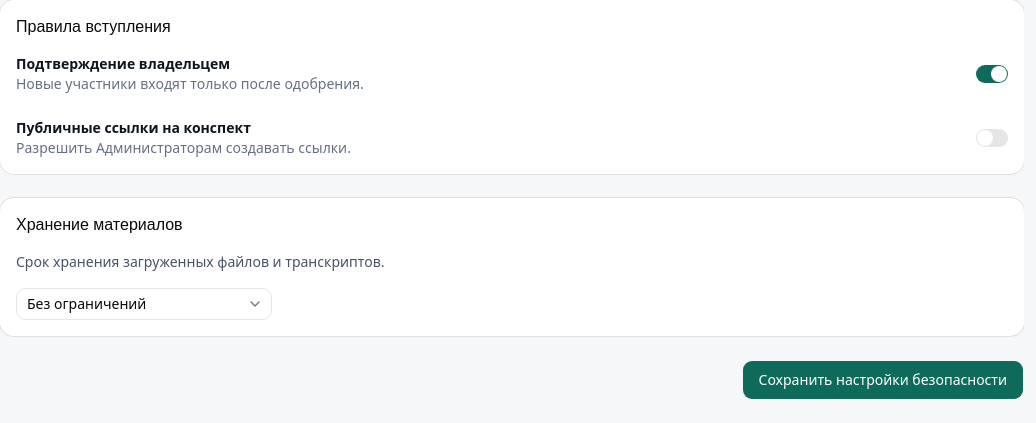
Scenario: SecurityTab › отображает все варианты срока хранения
This screenshot has width=1036, height=423.
Click the dropdown: [144, 304] box [16,288,272,320]
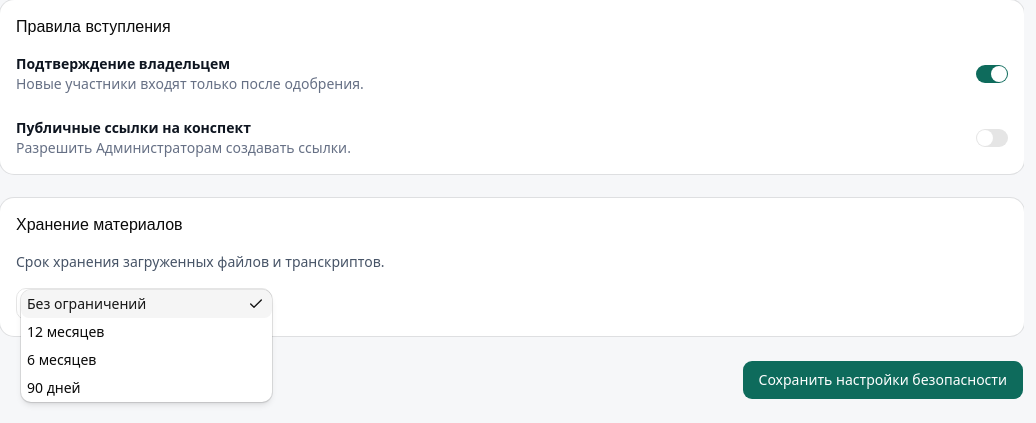
Expected: the option "Без ограничений" is shown, [21,290,272,318]
Expected: the option "12 месяцев" is shown, [27,322,104,341]
Expected: the option "6 месяцев" is shown, [27,350,96,369]
